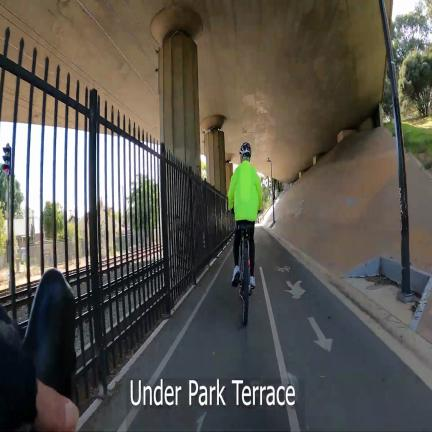Bike_Lane: (132, 228, 432, 432)
